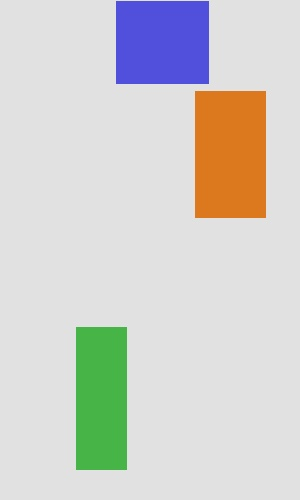square: (195, 91, 265, 217)
tall_box: (116, 1, 208, 83)
wide_box: (76, 327, 126, 469)
